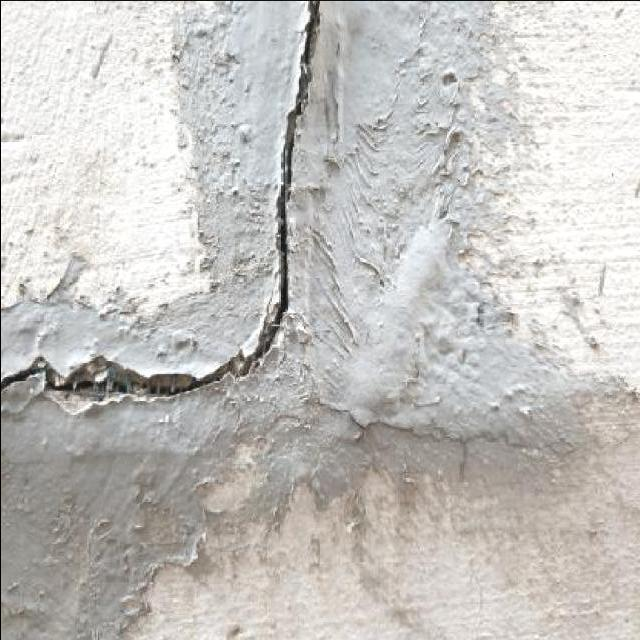Crack: (1, 0, 322, 406)
